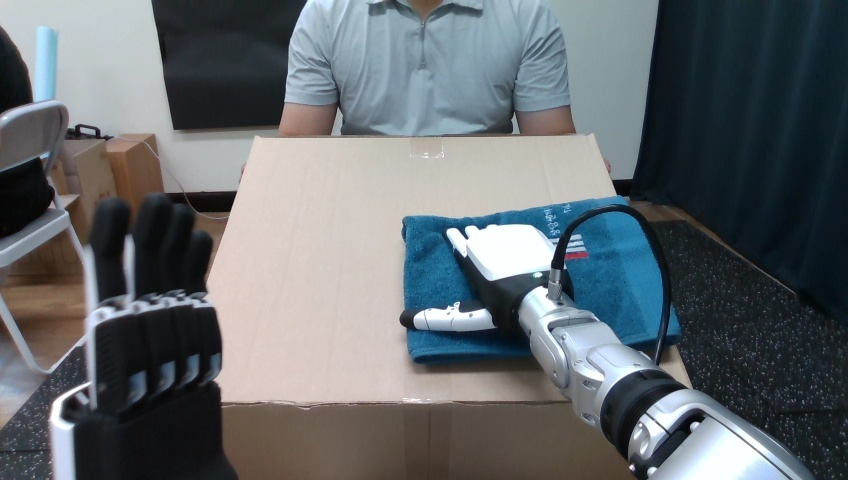left robot hand: (400, 203, 811, 479), (563, 212, 663, 359)
